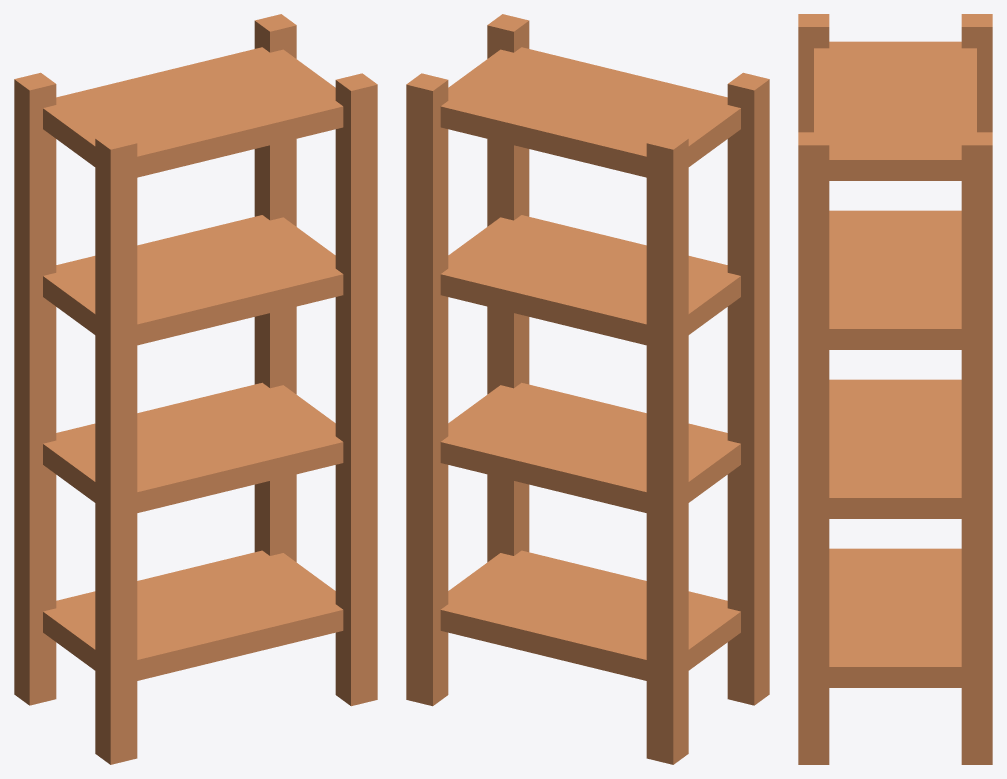
The model's file is bookcaseOpen.obj.
The picture shows the model from 3 angles, left to right: view 1: azimuth 30°, elevation 25°; view 2: azimuth 150°, elevation 25°; view 3: azimuth 270°, elevation 25°; orthographic projection.
Parts seen in each view (by area): view 1: bookcaseOpen; view 2: bookcaseOpen; view 3: bookcaseOpen.
Part boxes in pixels (x1,y1,x2,y2): bookcaseOpen: (14, 14, 377, 764); bookcaseOpen: (406, 14, 769, 764); bookcaseOpen: (798, 14, 992, 764).
Bounding box in the file's own units: 0.4 × 0.88 × 0.25.
